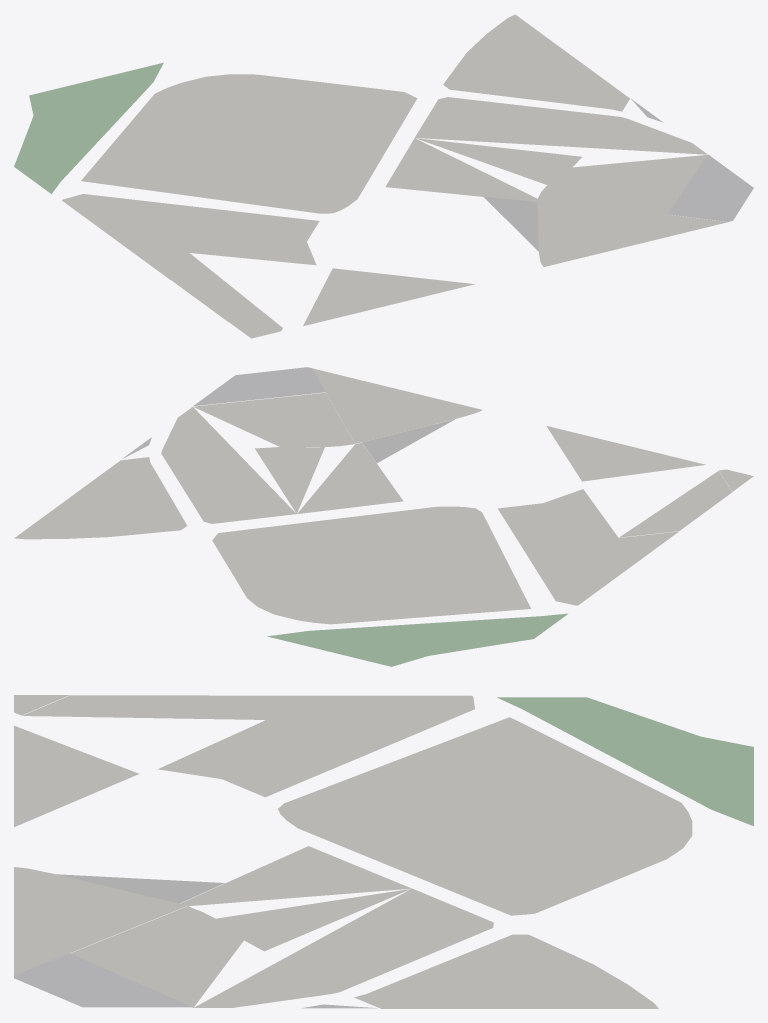
Rendered from 106_111_mid.glb.
3 renders of one model, top to bottom at view 1: azimuth 30°, elevation 25°; view 2: azimuth 150°, elevation 25°; view 3: azimuth 270°, elevation 25°, orthographic. The views are drawn at different scales.
Bounding box in the file's own units: 500 × 1.94 × 500.
